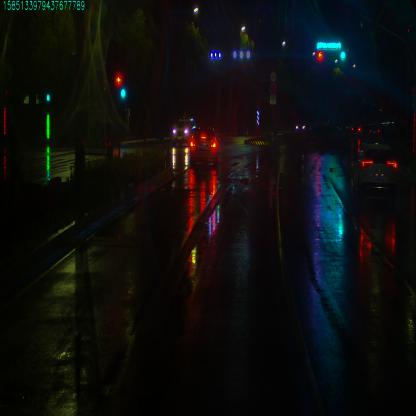traffic-light: (316, 41, 344, 50), (338, 50, 345, 61), (317, 50, 323, 62)
